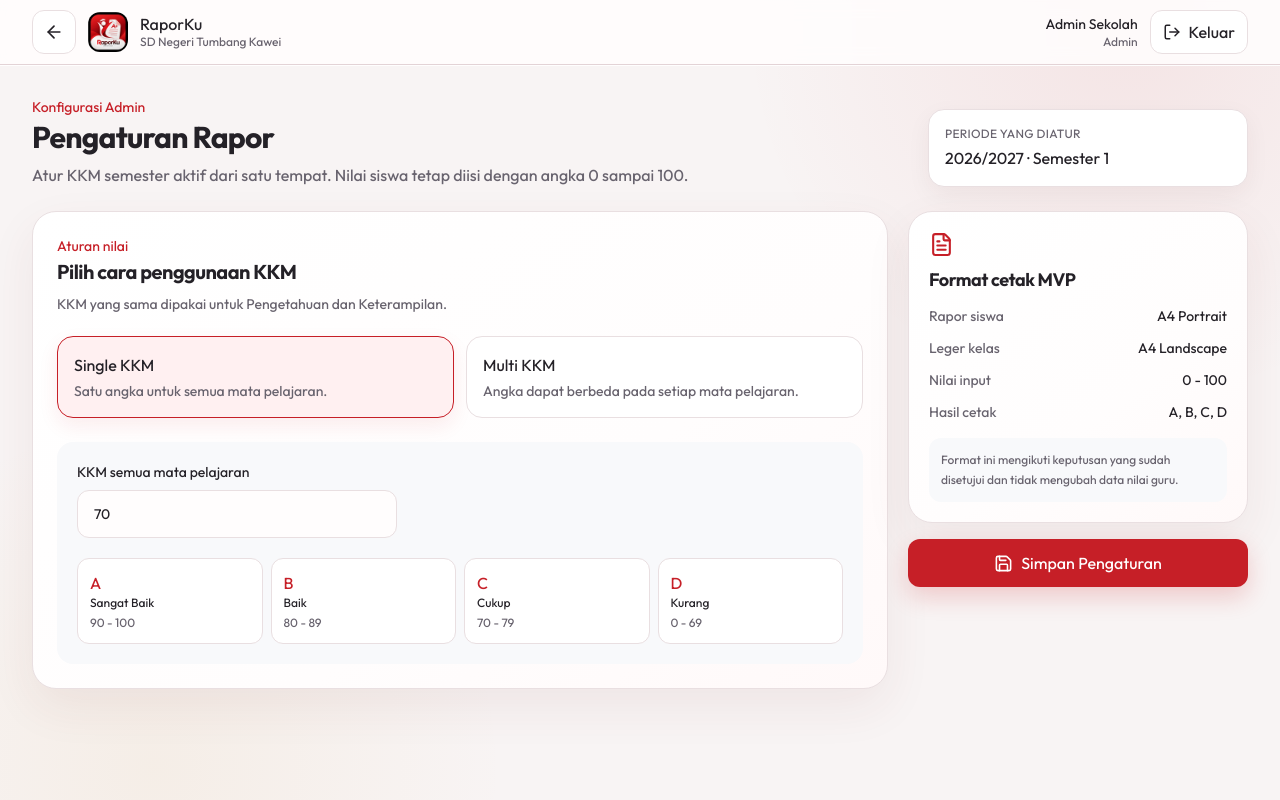
Scenario: ReportSettingsPage › menyimpan Multi KKM untuk seluruh mata pelajaran aktif
This screenshot has width=1280, height=800.
Expected: the number field showing "70" is shown, [77, 490, 397, 538]
Click the button "Multi KKM Angka dapat berbeda pada setiap mata pelajaran.": (519, 365) [466, 336, 863, 418]
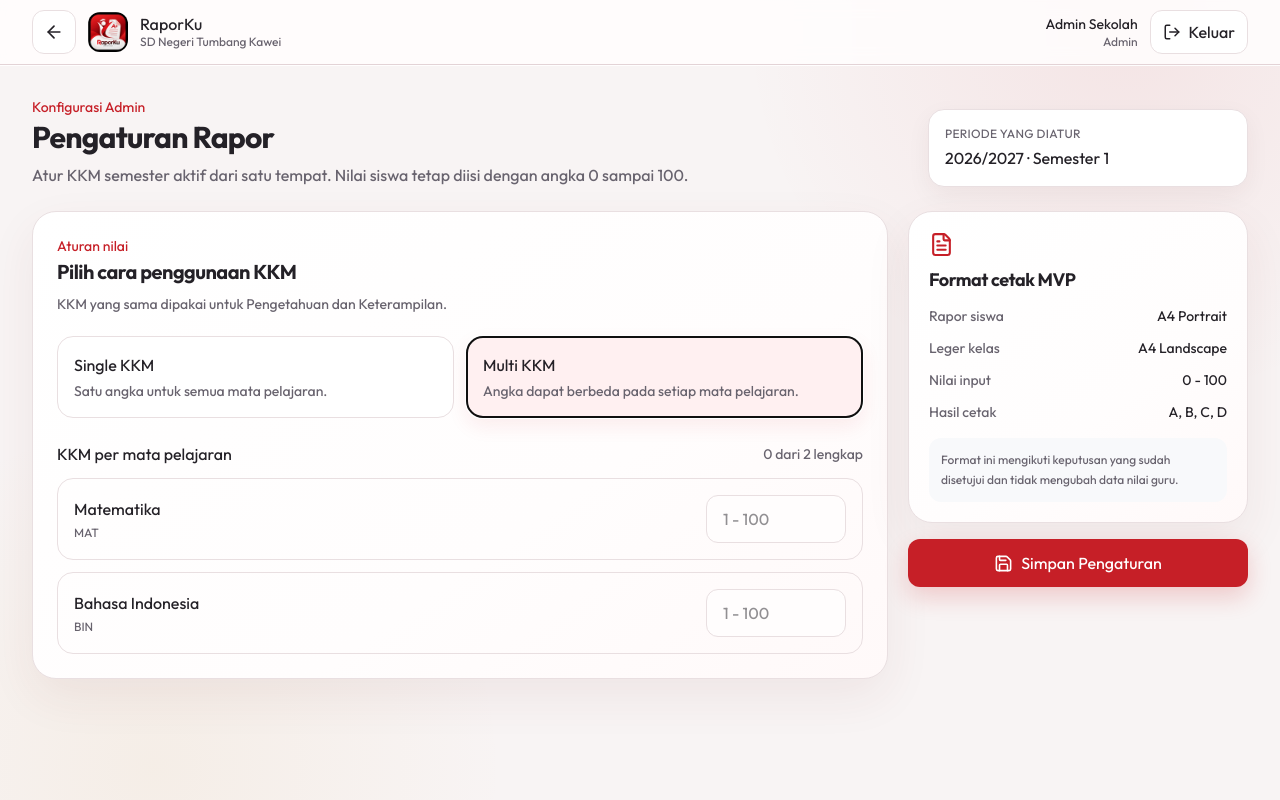
In the number field named "KKM Matematika": (776, 519) [706, 495, 846, 543], type "70"
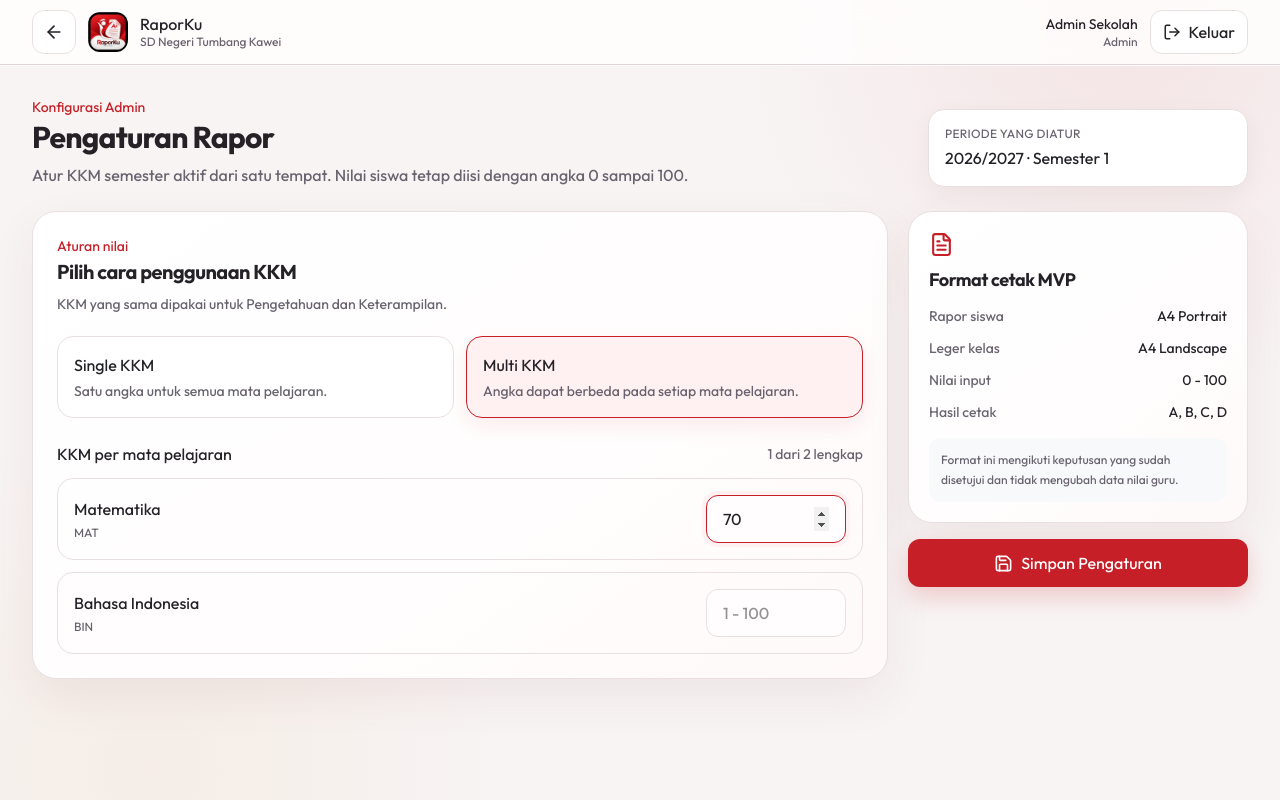
In the number field named "KKM Bahasa Indonesia": (776, 613) [706, 589, 846, 637], type "75"
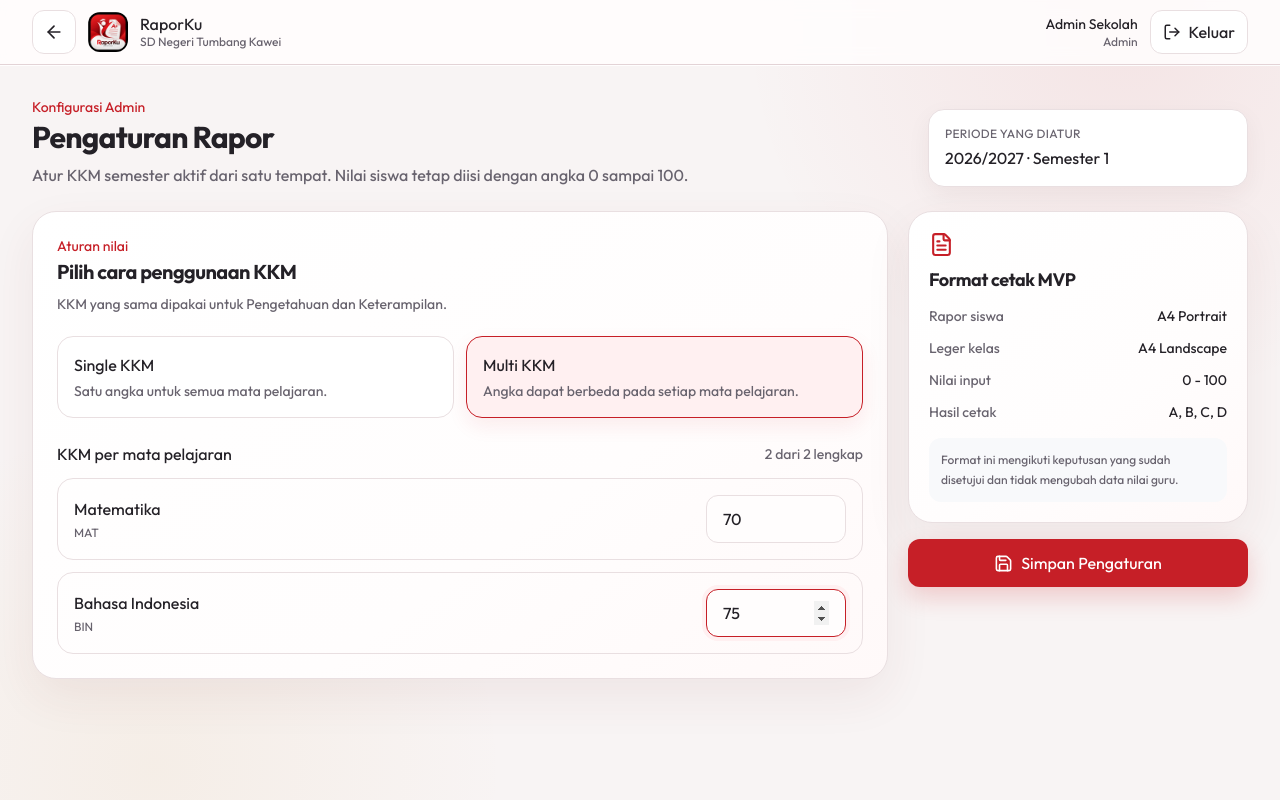
Click the button "Simpan Pengaturan": (1078, 563) [908, 539, 1248, 587]
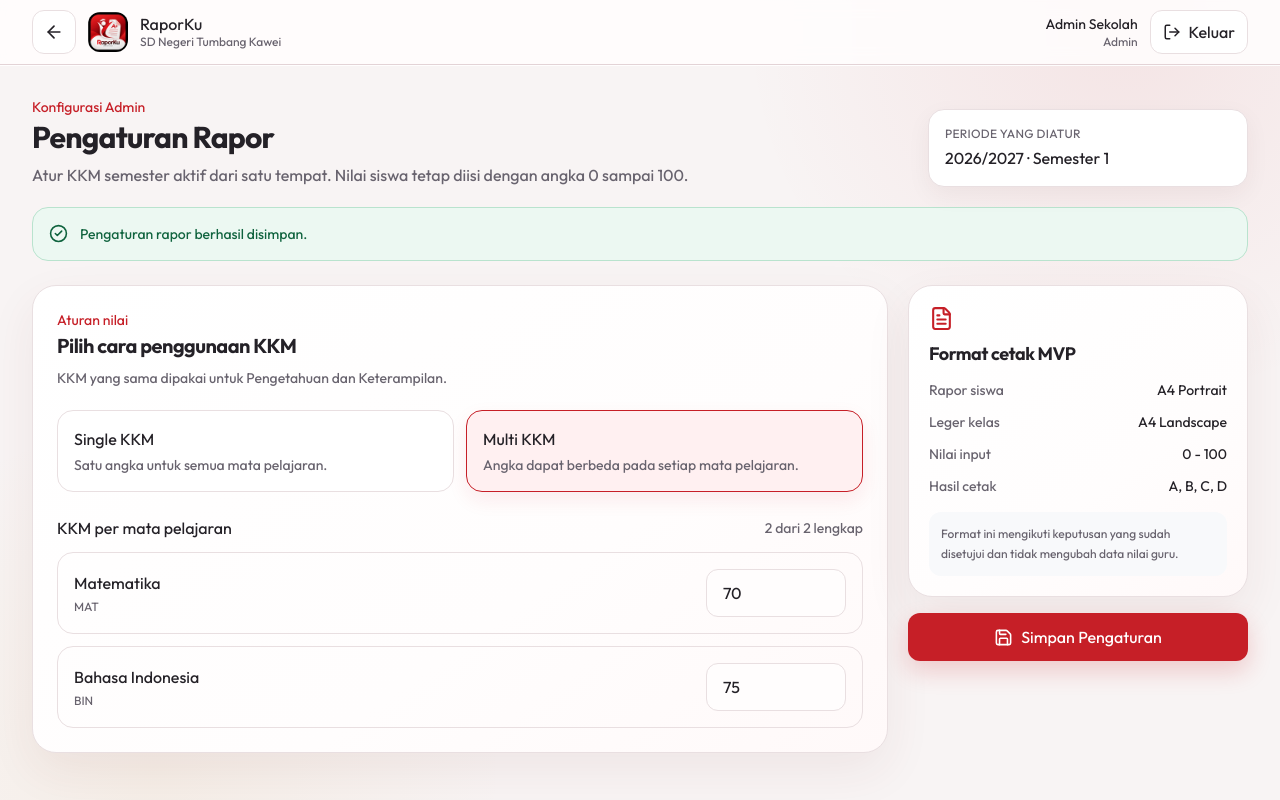
Expected: the text "Pengaturan rapor berhasil disimpan." is shown, [80, 225, 307, 243]
